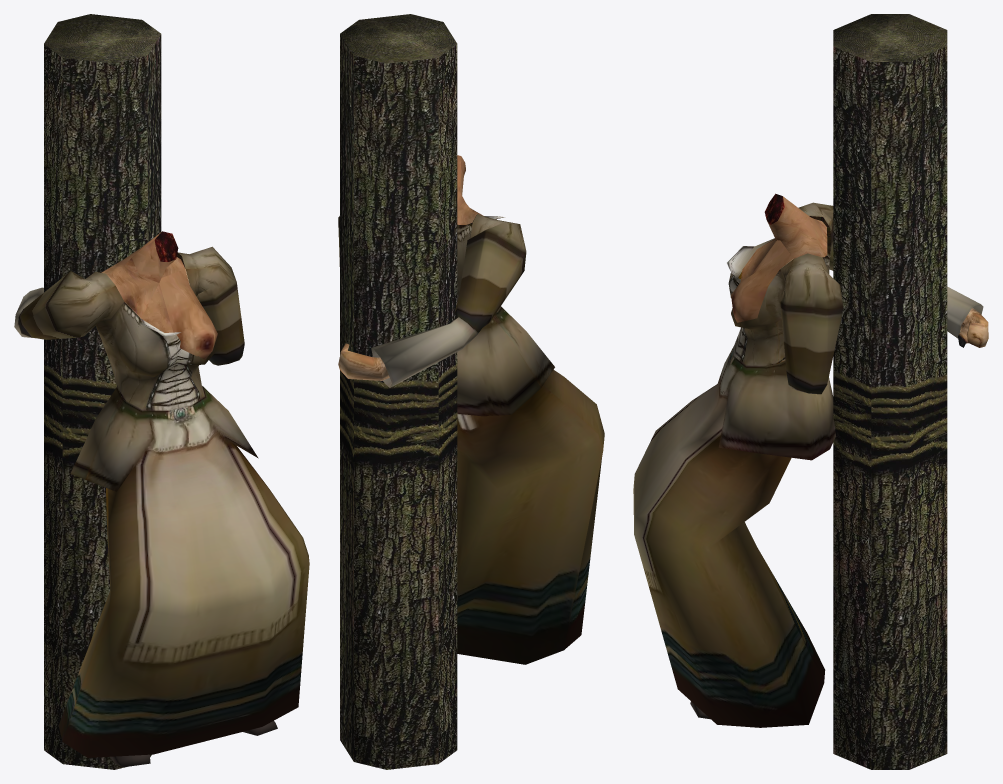
File: GS_MISC_WOMANBODY_01_KWIATEK.glb
3 renders of one model, left to right at view 1: azimuth 30°, elevation 25°; view 2: azimuth 150°, elevation 25°; view 3: azimuth 270°, elevation 25°, orthographic.
Parts seen in each view (by area): view 1: Mesh; view 2: Mesh; view 3: Mesh.
Part boxes in pixels (bbox=[...]): Mesh: bbox=[14, 14, 309, 769]; Mesh: bbox=[338, 14, 604, 769]; Mesh: bbox=[633, 14, 988, 769].
Size of the model in its own units: 0.7136 by 2.2 by 1.
6 materials, 6 textured.
